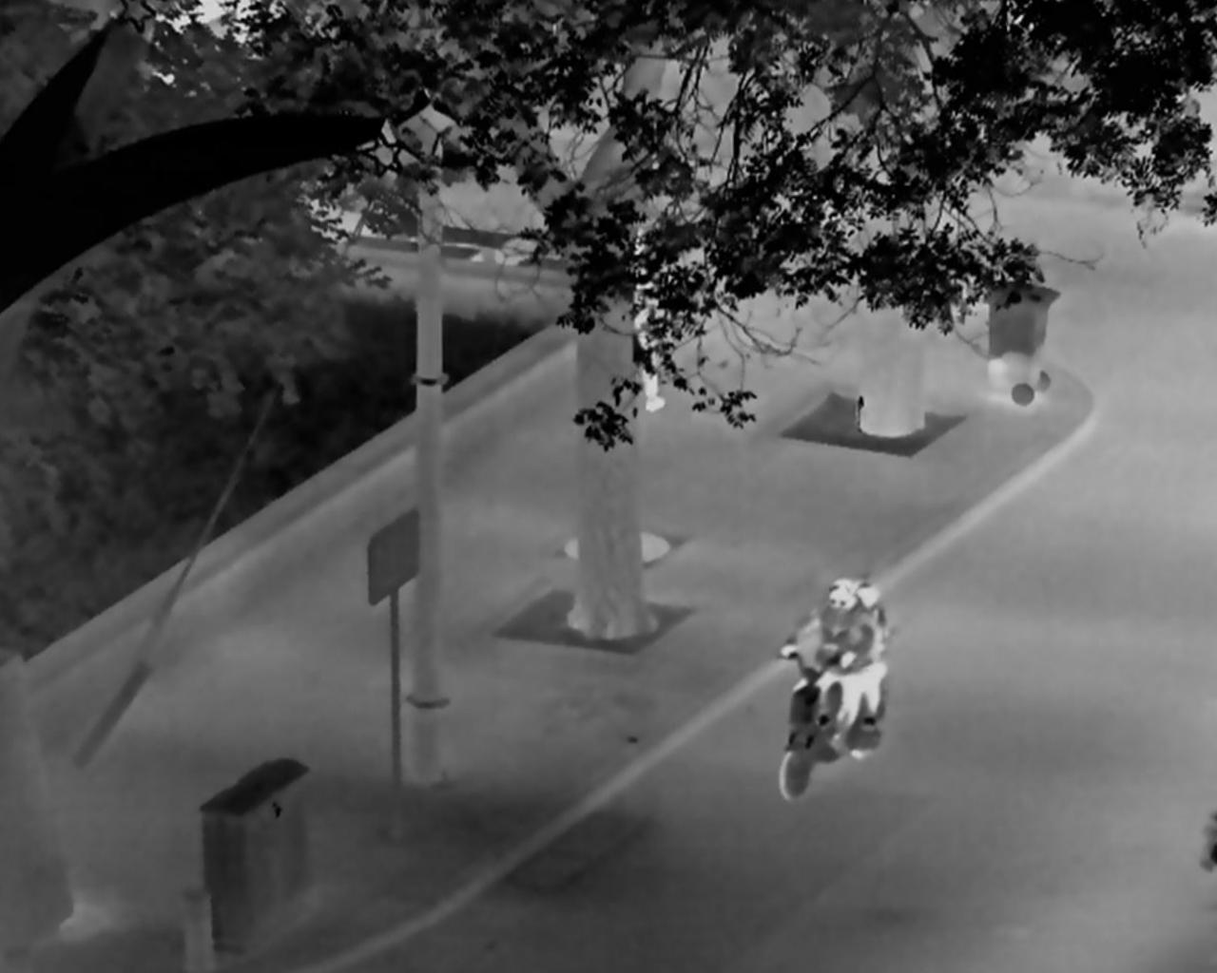person: (780, 577, 871, 741), (634, 229, 667, 414), (855, 579, 893, 727)
